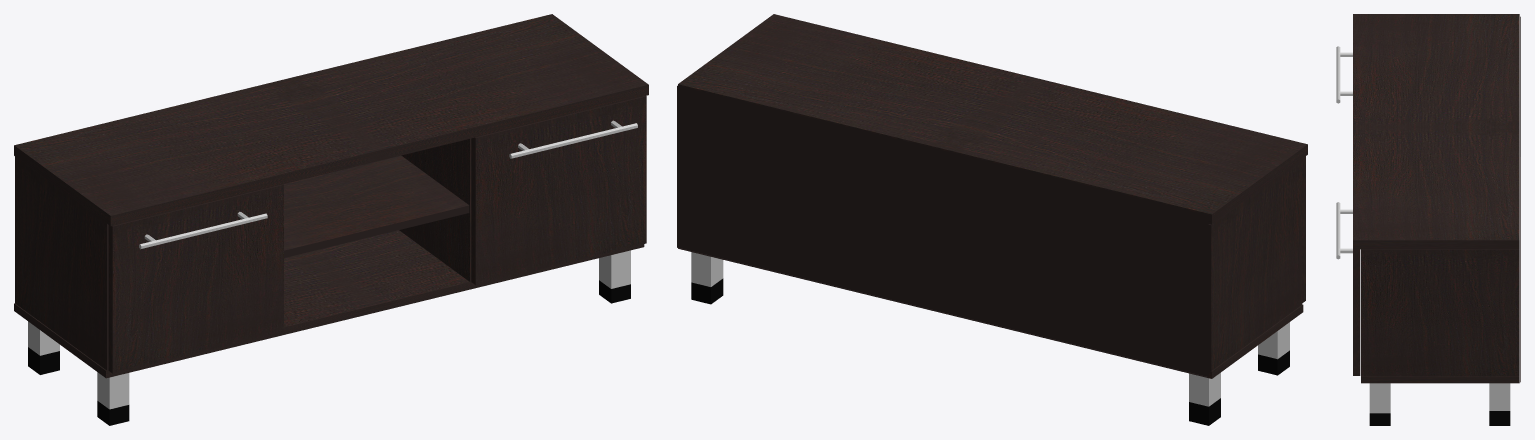
Rendered from tv_unit.glb.
The picture shows the model from 3 angles, left to right: view 1: azimuth 30°, elevation 25°; view 2: azimuth 150°, elevation 25°; view 3: azimuth 270°, elevation 25°; orthographic projection. The views are drawn at different scales.
Visible parts, largest first — view 1: Tv_Unit_Cube.007, Leftdoor_Cube.011, Right_door_Cube.010; view 2: Tv_Unit_Cube.007, Leftdoor_Cube.011; view 3: Tv_Unit_Cube.007, Right_door_Cube.010, Leftdoor_Cube.011.
Boxes of the visible parts, x1=… form: Tv_Unit_Cube.007: x1=14, y1=14, x2=648, y2=425; Leftdoor_Cube.011: x1=108, y1=184, x2=283, y2=373; Right_door_Cube.010: x1=471, y1=96, x2=646, y2=284; Tv_Unit_Cube.007: x1=677, y1=14, x2=1307, y2=425; Leftdoor_Cube.011: x1=1302, y1=156, x2=1305, y2=302; Tv_Unit_Cube.007: x1=1353, y1=14, x2=1520, y2=425; Right_door_Cube.010: x1=1336, y1=202, x2=1360, y2=375; Leftdoor_Cube.011: x1=1336, y1=46, x2=1352, y2=103.
Size of the model in its own units: 1.35 by 0.5255 by 0.4651.
Materials: 4 (2 with a texture image).
